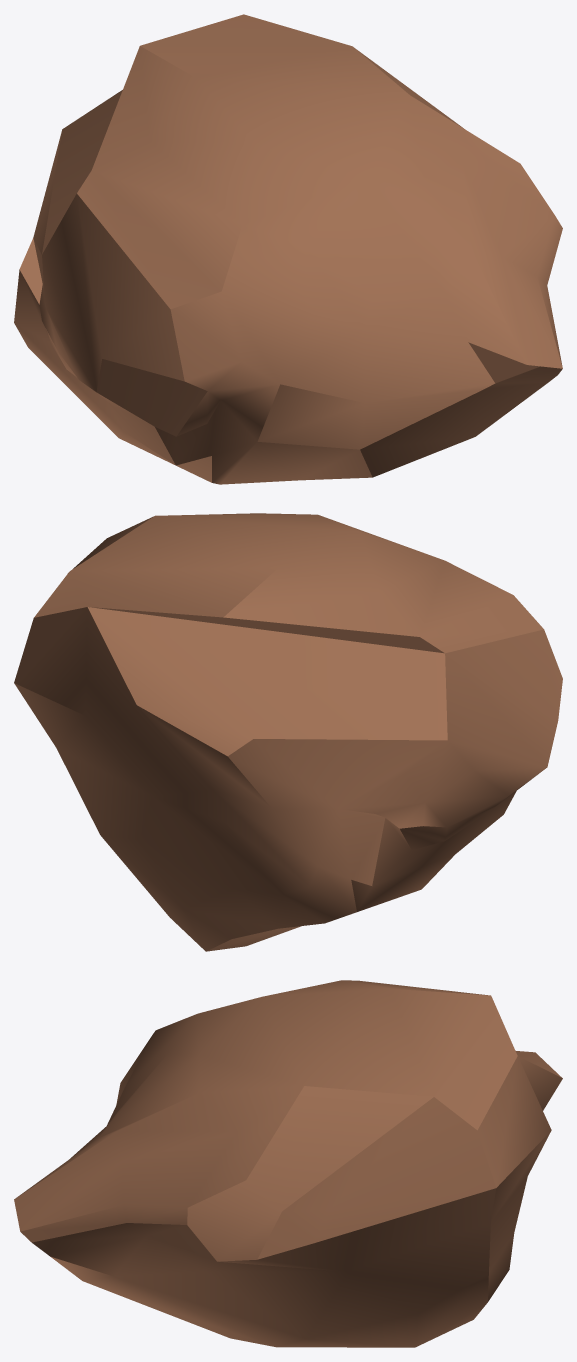
The model's file is rock_medium_3.fbx.
The picture shows the model from 3 angles, top to bottom: view 1: azimuth 30°, elevation 25°; view 2: azimuth 150°, elevation 25°; view 3: azimuth 270°, elevation 25°; orthographic projection. The views are drawn at different scales.
Parts seen in each view (by area): view 1: Retopo_Rock generator addon.015; view 2: Retopo_Rock generator addon.015; view 3: Retopo_Rock generator addon.015.
Part boxes in pixels (x1,y1,x2,y2): Retopo_Rock generator addon.015: (14, 14, 562, 484); Retopo_Rock generator addon.015: (14, 513, 562, 951); Retopo_Rock generator addon.015: (14, 980, 562, 1347).
Bounding box in the file's own units: 55.04 × 41.93 × 60.89.
